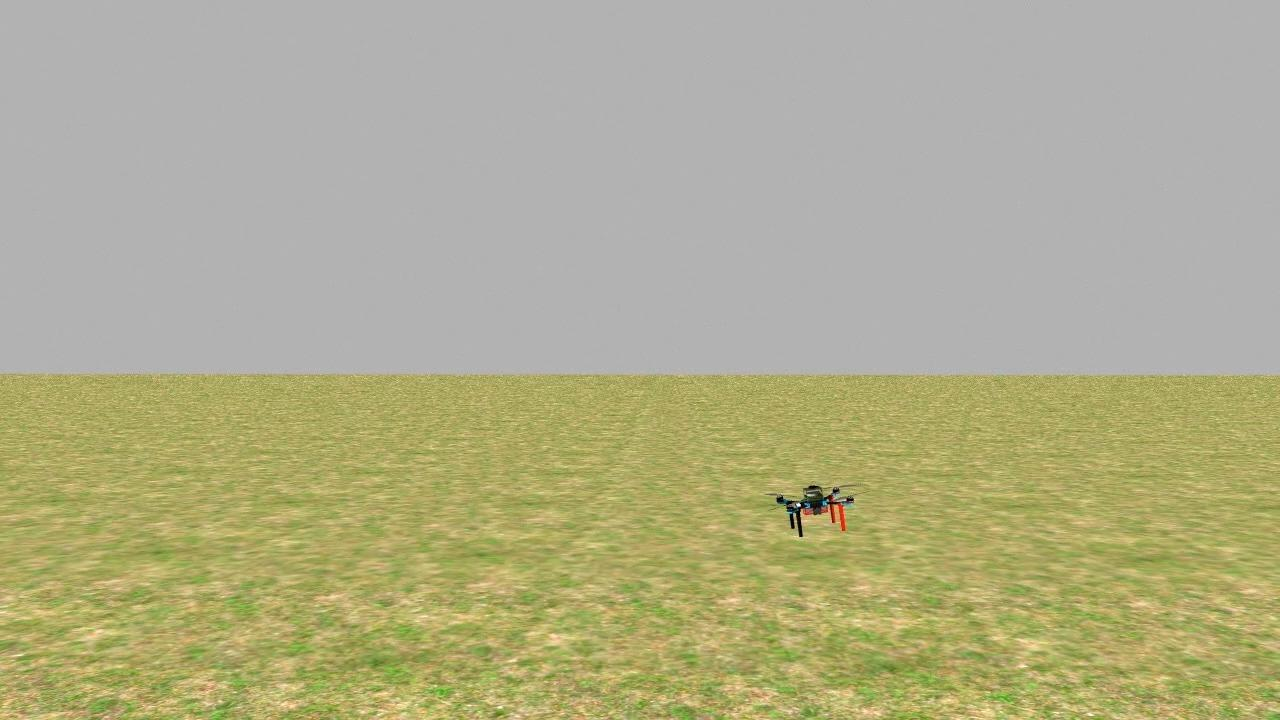UAV: (766, 470, 866, 544)
